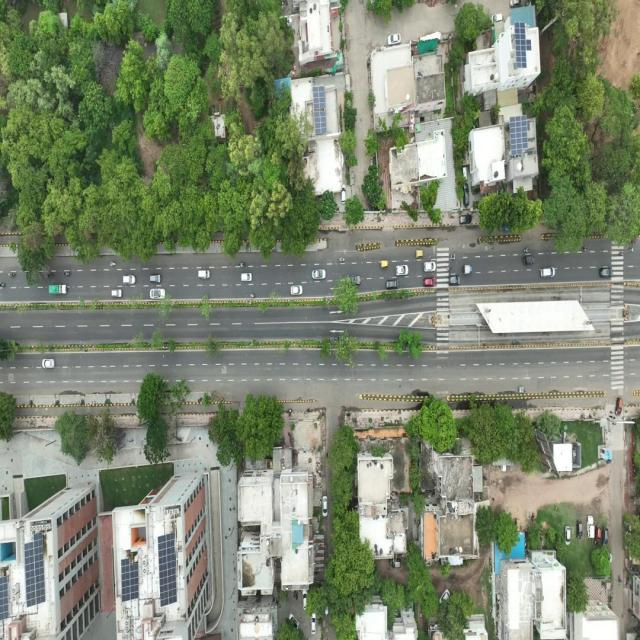3W: (523, 255, 535, 266), (415, 249, 424, 258), (380, 260, 390, 268)
Cars: (386, 30, 403, 45), (311, 267, 326, 281), (615, 397, 624, 420), (150, 288, 167, 300), (540, 266, 556, 278), (598, 267, 614, 279), (122, 273, 136, 286), (395, 264, 409, 277), (563, 524, 572, 544), (463, 183, 470, 208), (423, 276, 437, 288), (42, 358, 56, 370), (291, 284, 304, 296), (459, 214, 472, 226), (386, 279, 400, 290), (423, 261, 437, 272), (311, 613, 318, 635), (576, 519, 583, 541), (198, 269, 211, 280), (448, 274, 461, 285), (603, 526, 610, 546), (241, 272, 253, 283), (149, 274, 162, 284), (322, 496, 328, 517), (111, 289, 123, 299), (596, 525, 602, 545)
LCV: (586, 515, 596, 543), (49, 284, 68, 294), (462, 264, 473, 275), (519, 384, 526, 396)
M2W: (627, 246, 636, 254), (249, 292, 257, 299), (8, 272, 17, 278), (46, 273, 55, 279), (339, 257, 346, 264), (450, 253, 457, 260), (64, 271, 72, 277), (109, 261, 117, 267), (445, 265, 453, 271), (581, 246, 589, 252), (239, 262, 246, 268), (204, 294, 211, 300), (523, 248, 530, 254), (618, 251, 625, 257), (629, 240, 636, 246), (0, 282, 6, 288)
